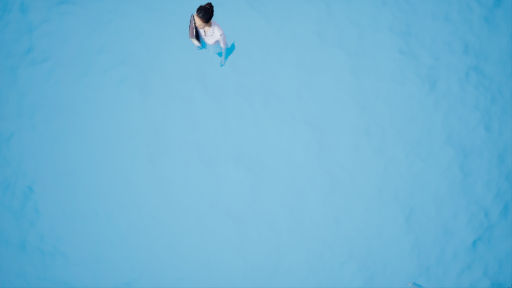person: (180, 5, 247, 67)
